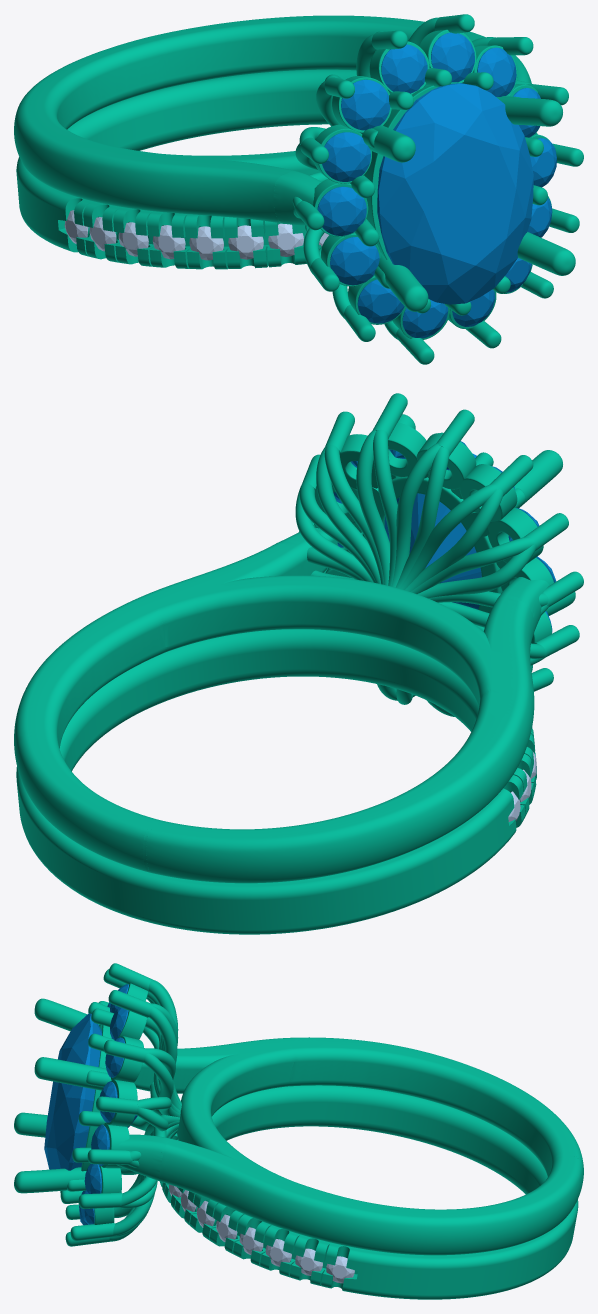
3 renders of one model, top to bottom at view 1: azimuth 30°, elevation 25°; view 2: azimuth 150°, elevation 25°; view 3: azimuth 270°, elevation 25°, orthographic. The views are drawn at different scales.
Visible parts, largest first — view 1: VR-37(base).3dm, Diamond_Oval, JewelCAD, Diamond_Round (×19); view 2: VR-37(base).3dm, JewelCAD, Diamond_Oval; view 3: VR-37(base).3dm, JewelCAD, Diamond_Oval, Diamond_Round (×4).
Boxes of the visible parts, x1,y1,x2,y2 form: VR-37(base).3dm: (14, 15, 537, 339); Diamond_Oval: (377, 83, 533, 304); JewelCAD: (295, 14, 583, 364); Diamond_Round (×19): (89, 32, 556, 338); VR-37(base).3dm: (14, 429, 549, 934); JewelCAD: (299, 393, 583, 697); Diamond_Oval: (384, 453, 481, 609); VR-37(base).3dm: (109, 980, 583, 1299); JewelCAD: (14, 963, 153, 1246); Diamond_Oval: (44, 1013, 137, 1170); Diamond_Round (×4): (84, 1164, 354, 1283).
Size of what is drawn, in the model's own units: 2.22 by 1.5 by 2.97.
